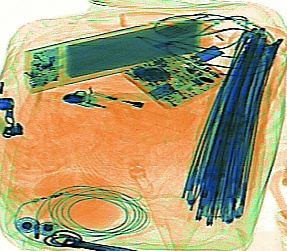lighter: (60, 85, 195, 134)
